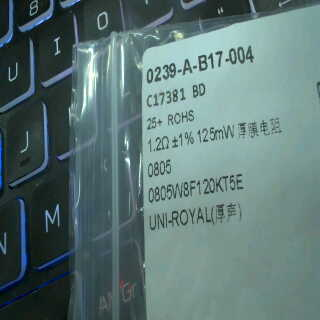1.2R: (144, 134, 171, 178)
